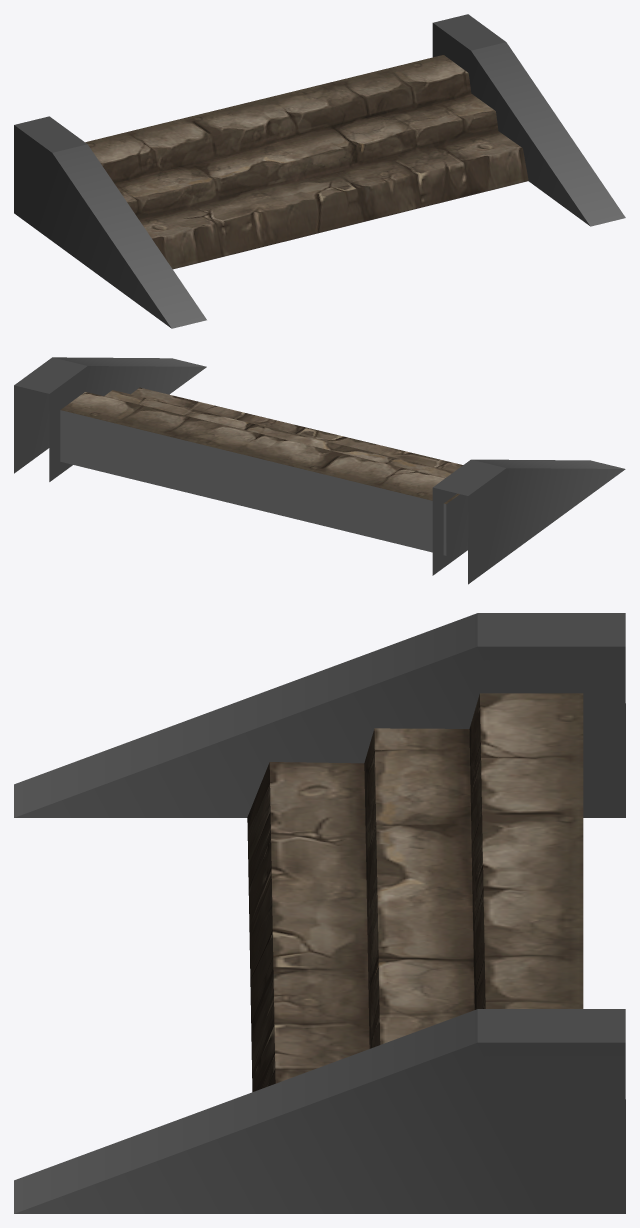
Rendered from stair_1.FBX.
3 renders of one model, top to bottom at view 1: azimuth 30°, elevation 25°; view 2: azimuth 150°, elevation 25°; view 3: azimuth 270°, elevation 25°, orthographic. The views are drawn at different scales.
Visible parts, largest first — view 1: stair_a; view 2: stair_a; view 3: stair_a.
Part boxes in pixels (x1,y1,x2,y2): stair_a: (14, 14, 625, 328); stair_a: (14, 357, 625, 584); stair_a: (14, 613, 625, 1213).
Bounding box in the file's own units: 4.97 × 0.9241 × 2.99.
